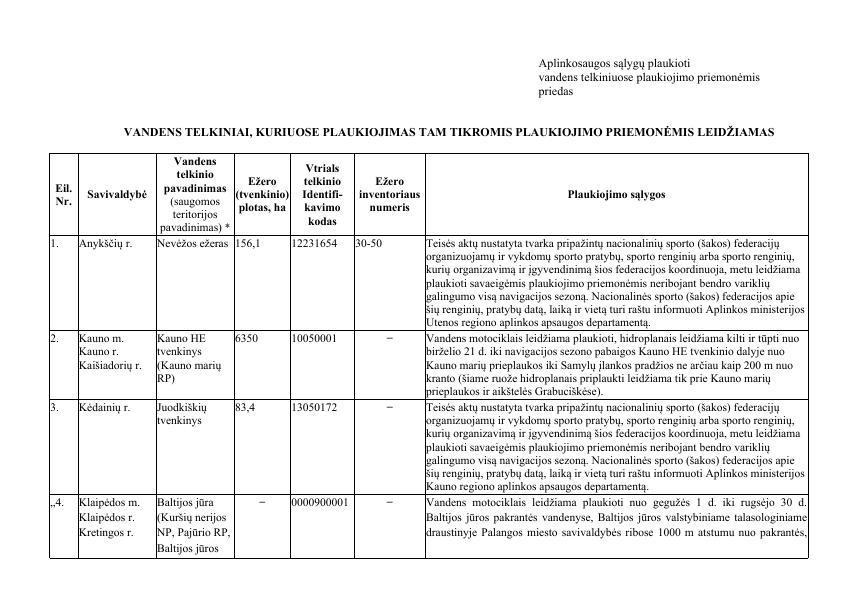table: (47, 151, 813, 561)
text: (535, 54, 763, 104), (121, 123, 779, 139)
